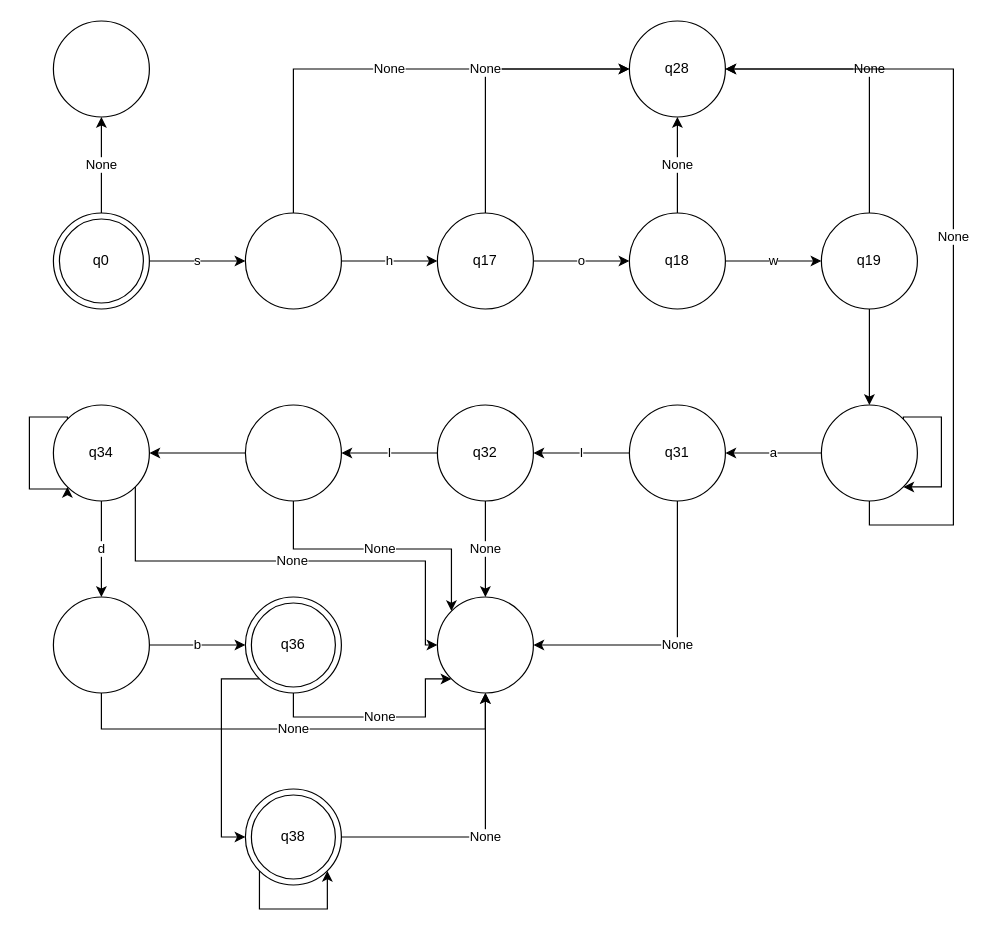
Some shapes in this 990 by 940 pixel diagram are drawn without their labels. Each missing label, with the centre of its shape:
"q16" goes at point 292,260.
"q2" goes at point 100,68.
"q20" goes at point 868,452.
"q33" goes at point 292,452.
"q35" goes at point 100,644.
"q37" goes at point 484,644.
